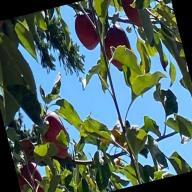Apples: (100, 22, 135, 74), (36, 110, 71, 162), (72, 12, 103, 52), (118, 0, 154, 30), (15, 161, 47, 192), (0, 20, 5, 36)
